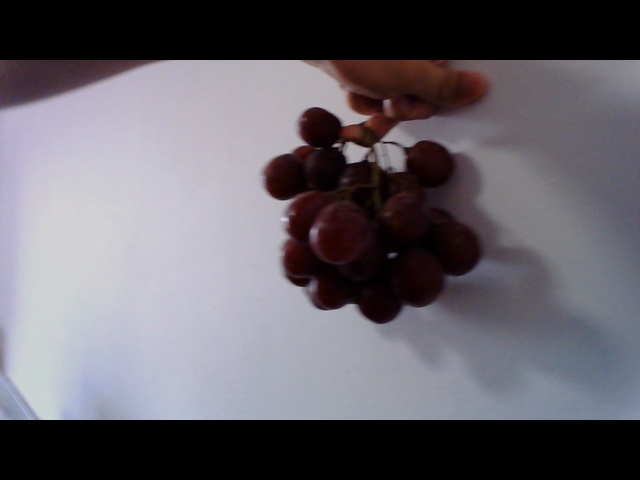grape: (253, 112, 506, 327)
